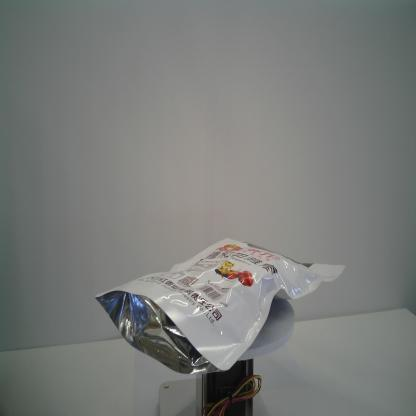Dried Food: (94, 237, 346, 376)
